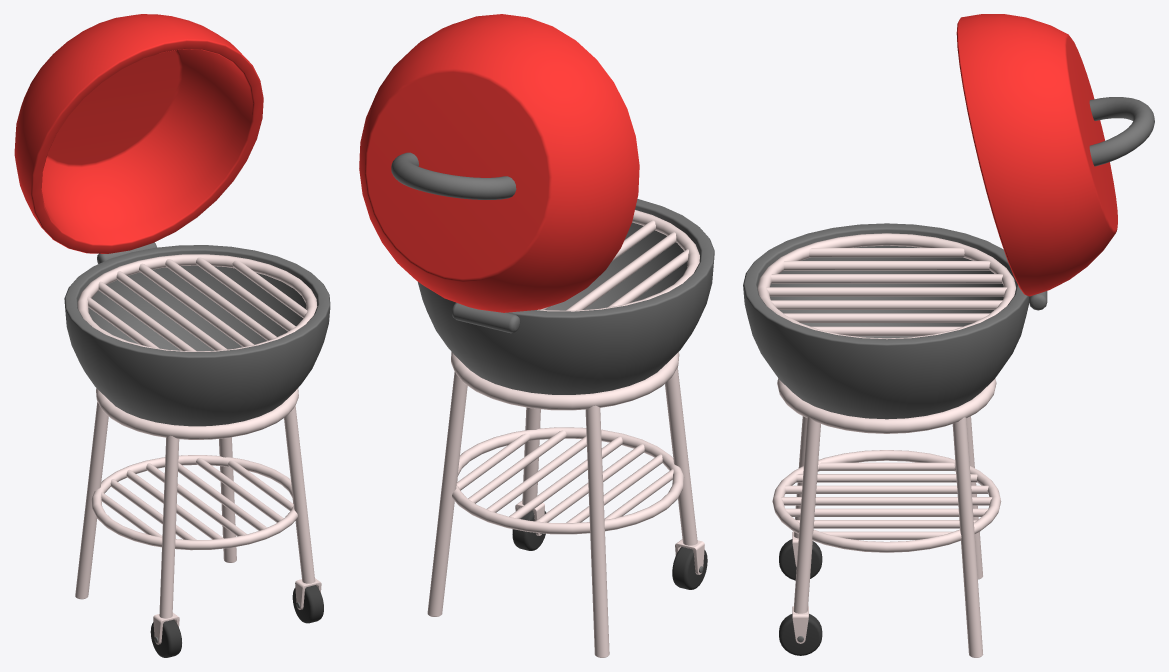
The model's file is Town_20_Barbecue_1.glb.
3 renders of one model, left to right at view 1: azimuth 30°, elevation 25°; view 2: azimuth 150°, elevation 25°; view 3: azimuth 270°, elevation 25°, orthographic. The views are drawn at different scales.
Visible parts, largest first — view 1: Town_20_Barbecue_1; view 2: Town_20_Barbecue_1; view 3: Town_20_Barbecue_1.
Boxes of the visible parts, bbox=[...] form: Town_20_Barbecue_1: bbox=[14, 14, 330, 657]; Town_20_Barbecue_1: bbox=[359, 14, 714, 657]; Town_20_Barbecue_1: bbox=[743, 14, 1154, 657].
Bounding box in the file's own units: 0.648 × 1.46 × 0.9279.
1 material, 1 textured.
